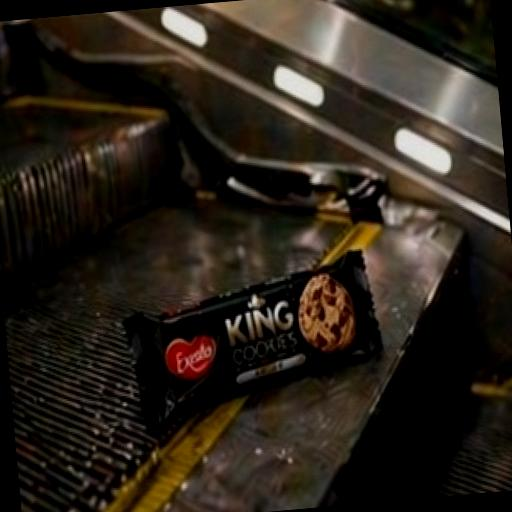king_cooking: (94, 226, 427, 458)
